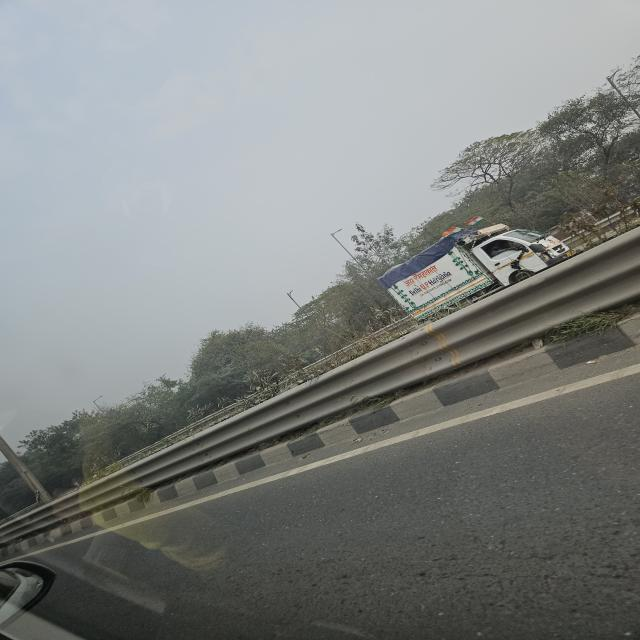uncovered: (370, 204, 580, 323)
